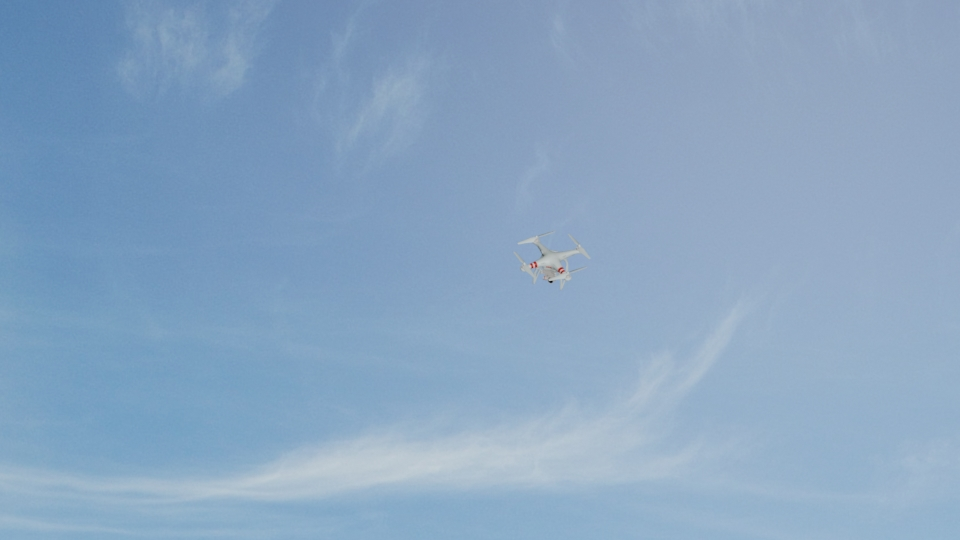drone: (514, 229, 591, 288)
